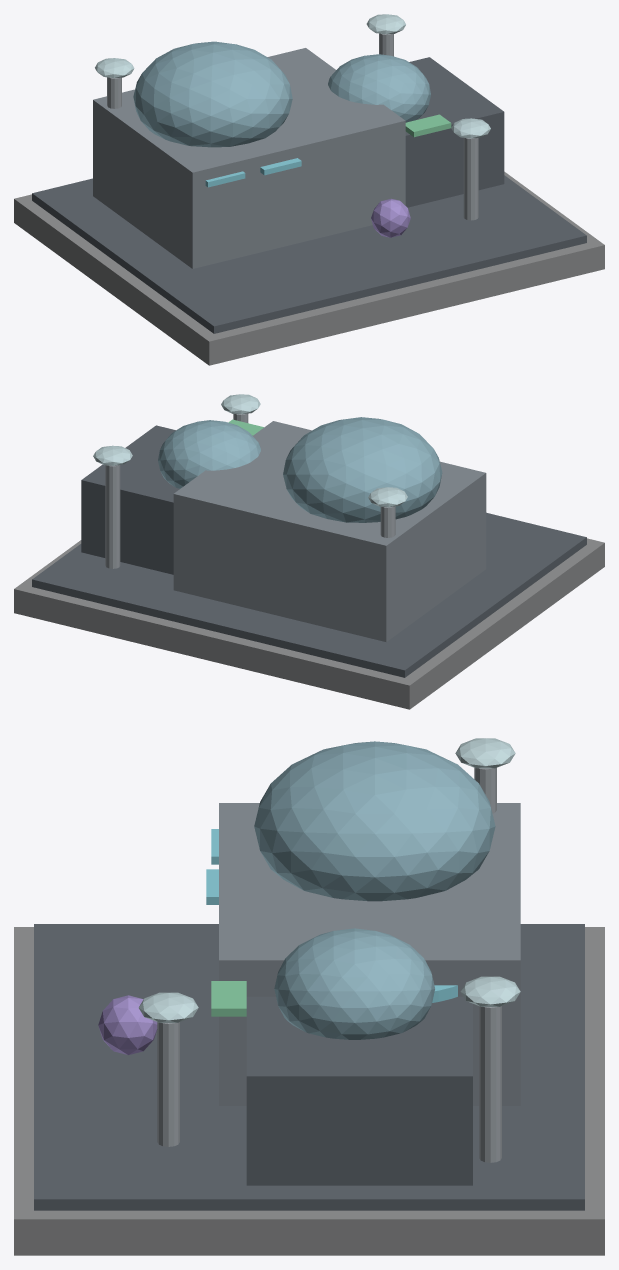
The model's file is human_research_facility.glb.
The picture shows the model from 3 angles, top to bottom: view 1: azimuth 30°, elevation 25°; view 2: azimuth 150°, elevation 25°; view 3: azimuth 270°, elevation 25°; orthographic projection. The views are drawn at different scales.
Parts seen in each view (by area): view 1: lab_block, foundation_top, foundation, lab_dome_large, analysis_block, lab_dome_small, antenna_mast_2, scan_sample, monitor_2, antenna_dish_2, antenna_dish_1, antenna_dish_0; view 2: lab_block, foundation_top, foundation, lab_dome_large, analysis_block, lab_dome_small, antenna_mast_1, antenna_dish_2, antenna_dish_0, antenna_dish_1, antenna_mast_0; view 3: foundation_top, foundation, analysis_block, lab_block, lab_dome_large, lab_dome_small, antenna_mast_1, antenna_mast_2, scan_sample, antenna_dish_0, antenna_dish_1, antenna_dish_2 (+1 smaller).
Boxes of the visible parts, x1,y1,x2,y2 form: lab_block: (93, 48, 405, 268); foundation_top: (32, 175, 586, 333); foundation: (14, 171, 604, 365); lab_dome_large: (133, 41, 292, 147); analysis_block: (405, 57, 504, 207); lab_dome_small: (328, 54, 430, 122); antenna_mast_2: (463, 137, 478, 220); scan_sample: (371, 198, 410, 237); monitor_2: (405, 114, 451, 137); antenna_dish_2: (451, 118, 490, 138); antenna_dish_1: (366, 14, 405, 34); antenna_dish_0: (95, 58, 134, 78); lab_block: (173, 421, 486, 642); foundation_top: (32, 512, 586, 677); foundation: (14, 538, 604, 709); lab_dome_large: (283, 417, 442, 522); analysis_block: (81, 425, 179, 574); lab_dome_small: (158, 420, 260, 488); antenna_mast_1: (105, 465, 120, 568); antenna_dish_2: (221, 394, 260, 414); antenna_dish_0: (368, 487, 407, 507); antenna_dish_1: (93, 445, 132, 465); antenna_mast_0: (380, 506, 395, 537); foundation_top: (34, 924, 584, 1210); foundation: (14, 927, 604, 1255); analysis_block: (246, 996, 472, 1185); lab_block: (219, 803, 520, 1105); lab_dome_large: (254, 741, 495, 901); lab_dome_small: (274, 928, 434, 1039); antenna_mast_1: (479, 1006, 501, 1162); antenna_mast_2: (157, 1022, 179, 1146); scan_sample: (98, 995, 157, 1054); antenna_dish_0: (455, 738, 515, 768); antenna_dish_1: (460, 976, 520, 1006); antenna_dish_2: (138, 992, 198, 1022).
Bounding box in the file's own units: 2.75 × 1.3 × 2.35.
